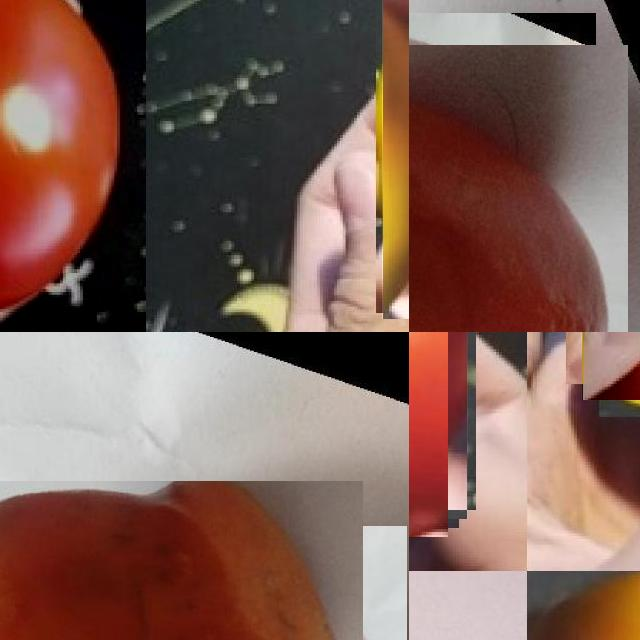1: (0, 503, 385, 640)
Fresh Tomato: (0, 0, 146, 332)
Rotten Tomato: (409, 29, 612, 332), (382, 0, 409, 319)
